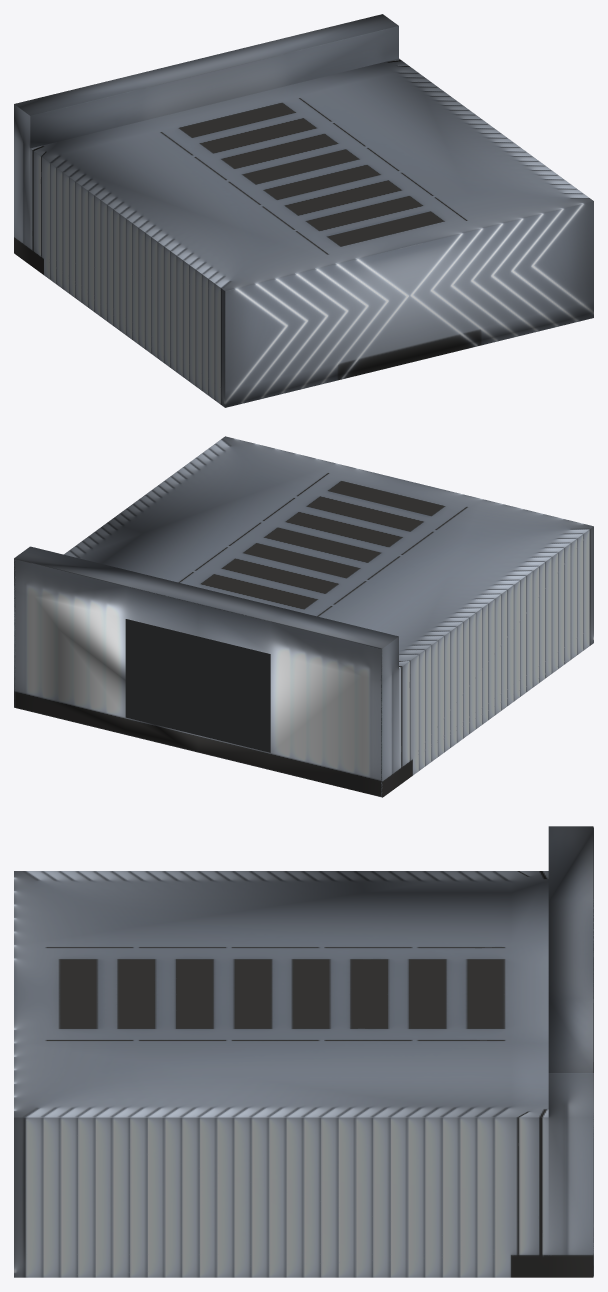
The model's file is Lab.fbx.
3 renders of one model, top to bottom at view 1: azimuth 30°, elevation 25°; view 2: azimuth 150°, elevation 25°; view 3: azimuth 270°, elevation 25°, orthographic. The views are drawn at different scales.
Parts seen in each view (by area): view 1: Upper, Back, Left, Font; view 2: Font, Upper, Left; view 3: Upper, Right, Font.
Boxes of the visible parts, <box> form: Upper: <box>30,58,593,290</box>; Back: <box>225,201,593,407</box>; Left: <box>30,149,225,407</box>; Font: <box>14,14,398,264</box>; Font: <box>14,546,398,797</box>; Upper: <box>64,436,593,668</box>; Left: <box>399,526,593,785</box>; Upper: <box>14,871,548,1117</box>; Right: <box>14,1117,548,1277</box>; Font: <box>548,826,593,1277</box>.
Bounding box in the file's own units: 3037 × 1175 × 3016.
6 materials, 1 textured.
